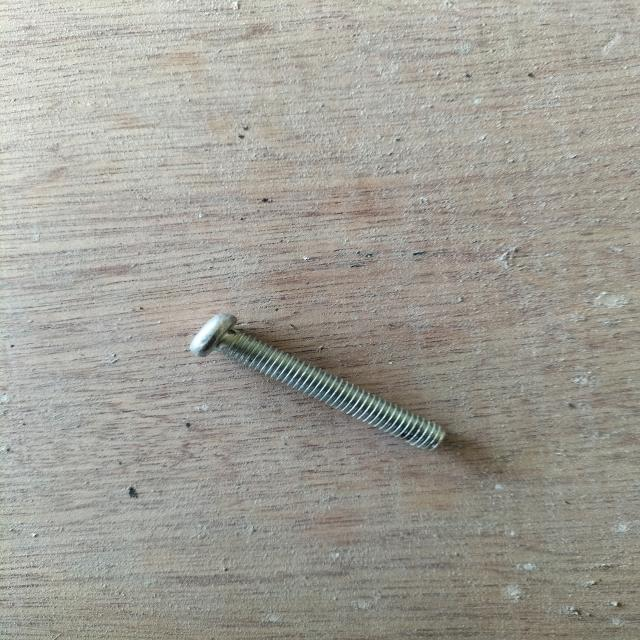bolt: (190, 313, 446, 450)
